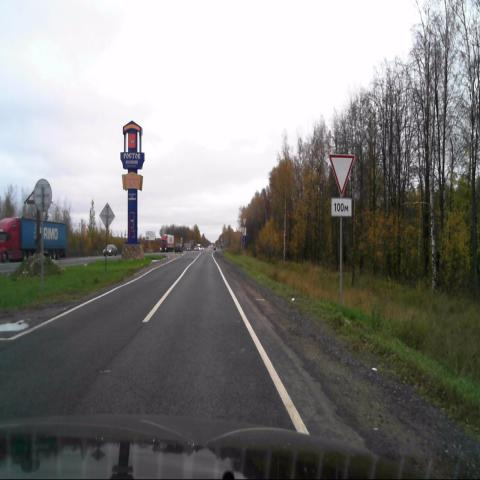8_1_1: (331, 198, 351, 216)
